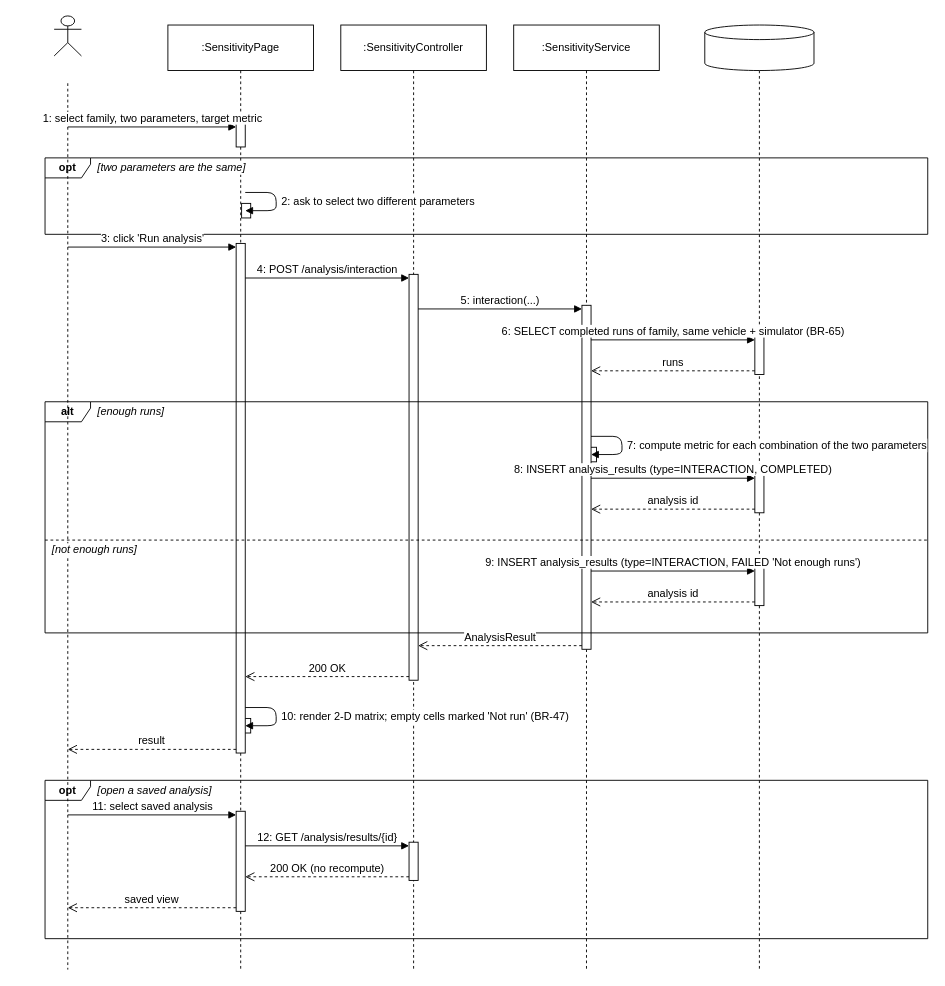
This 945x986 diagram has some shape labels left out. The shapes that lost their labels are listed below. From the top down, each one's centre as x and y in pixels, then its label:
the point at 67,35: Engineer / Reviewer / Experiencer
the point at 759,47: MySQL
